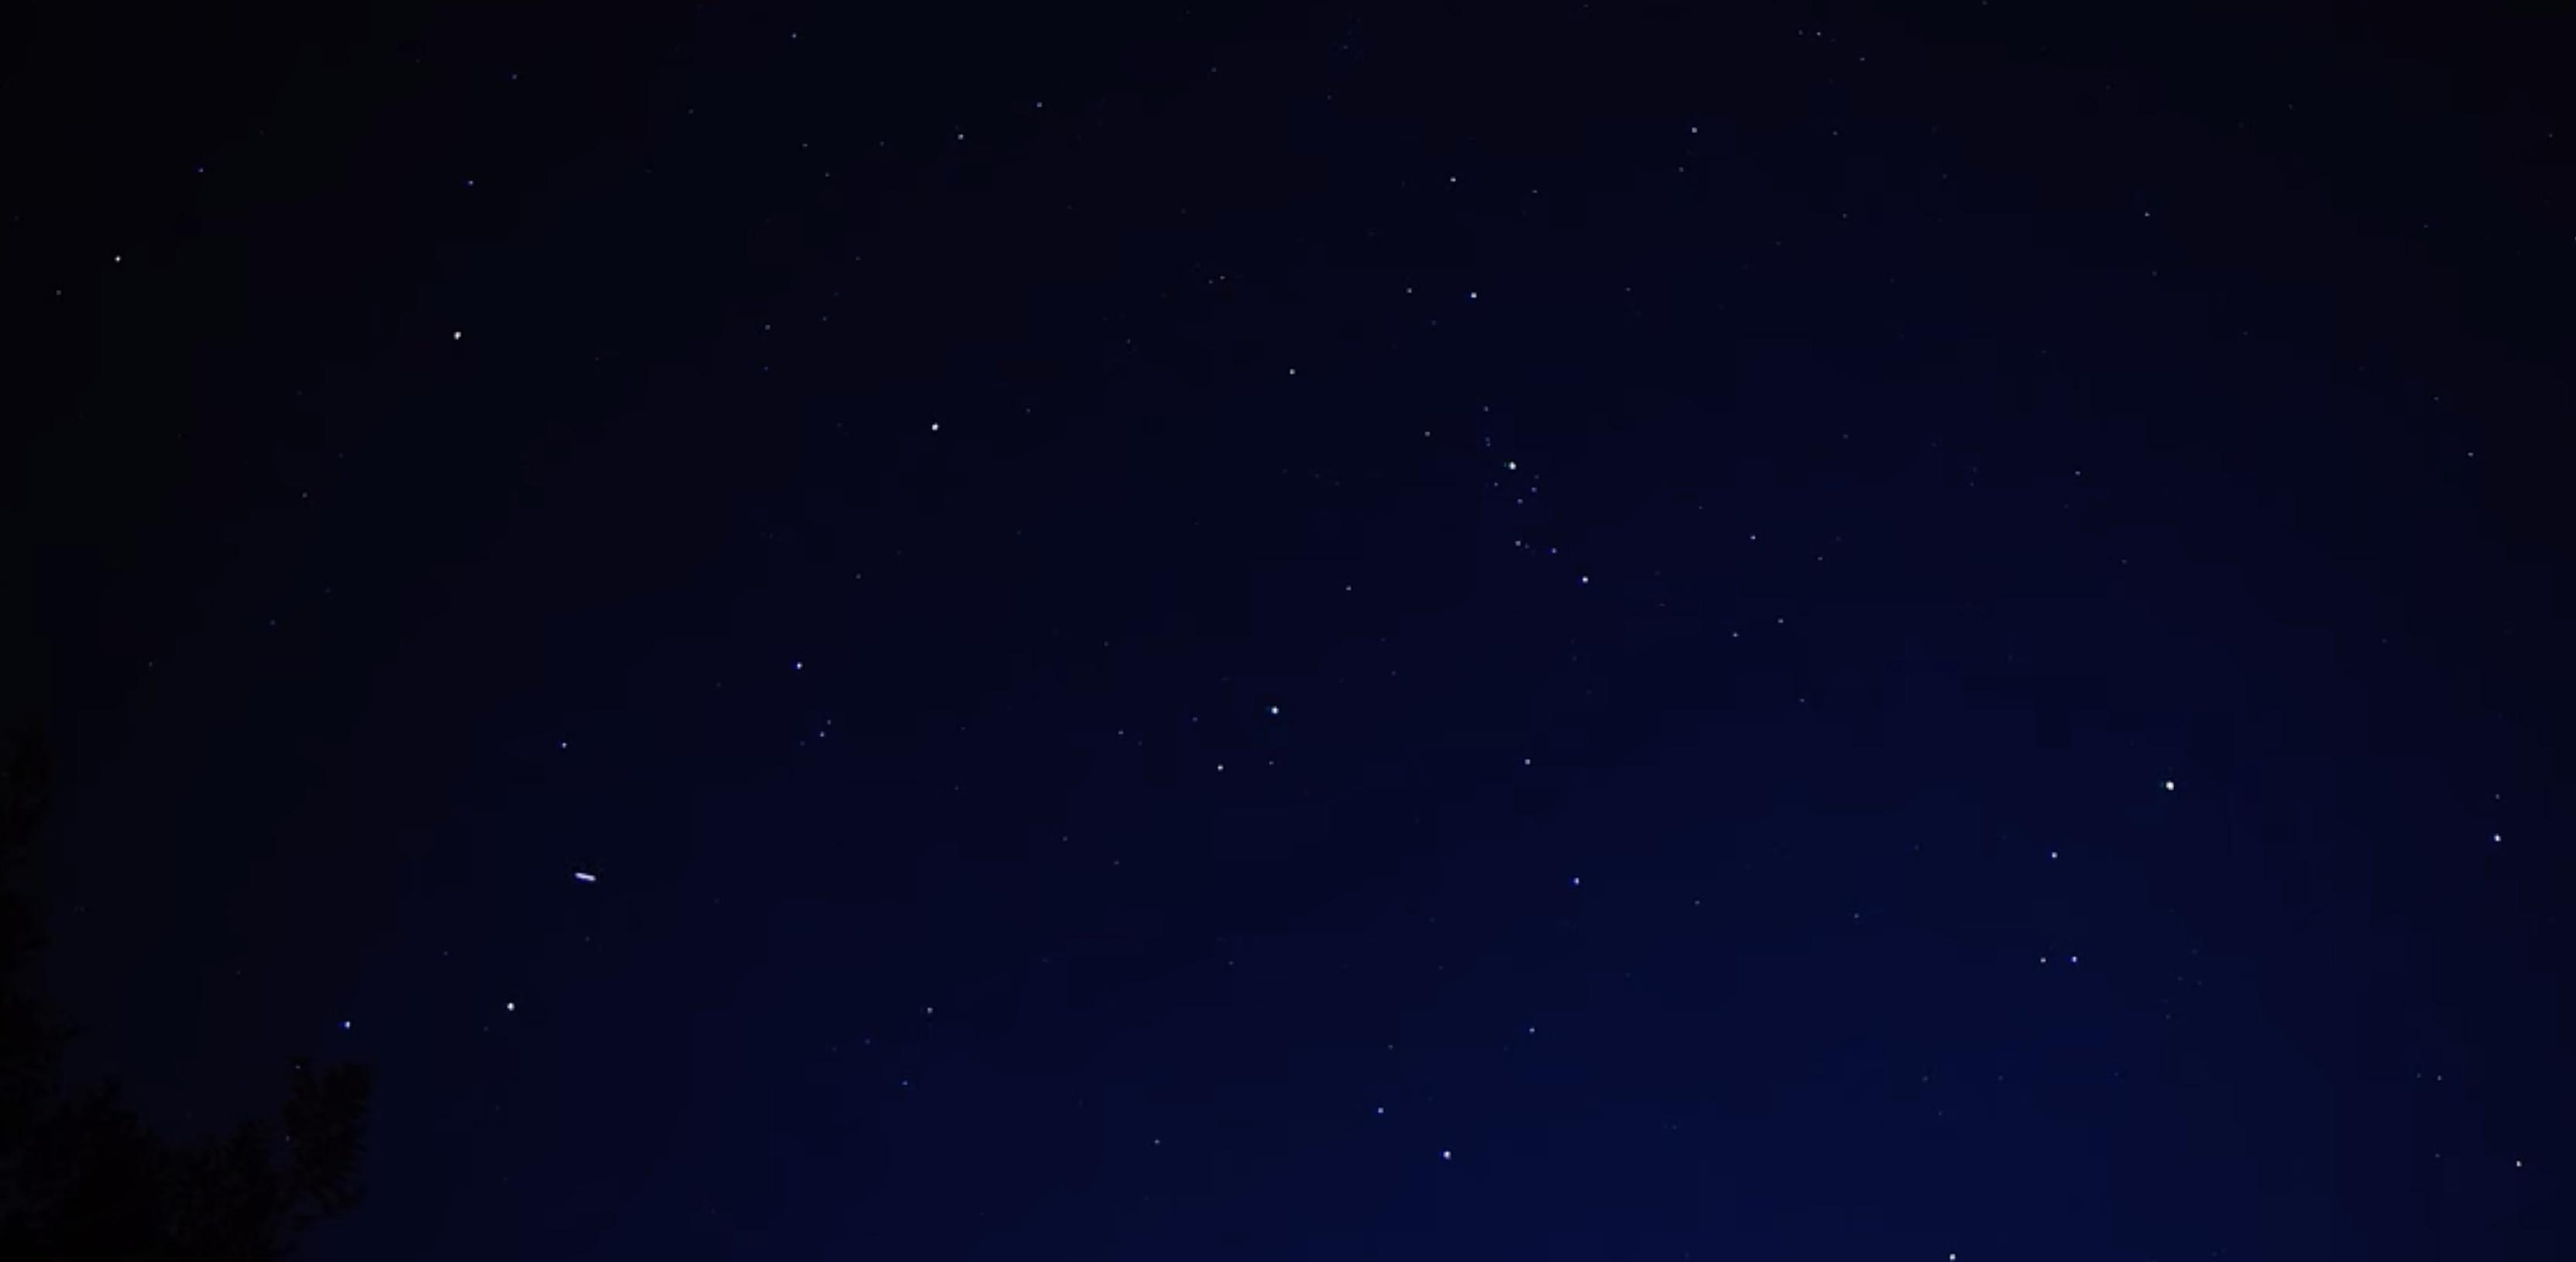meteorite: (552, 861, 619, 899)
